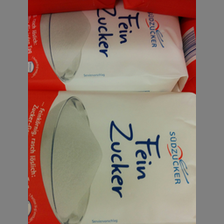tomato_sauce: (28, 89, 196, 224), (28, 10, 187, 92)
